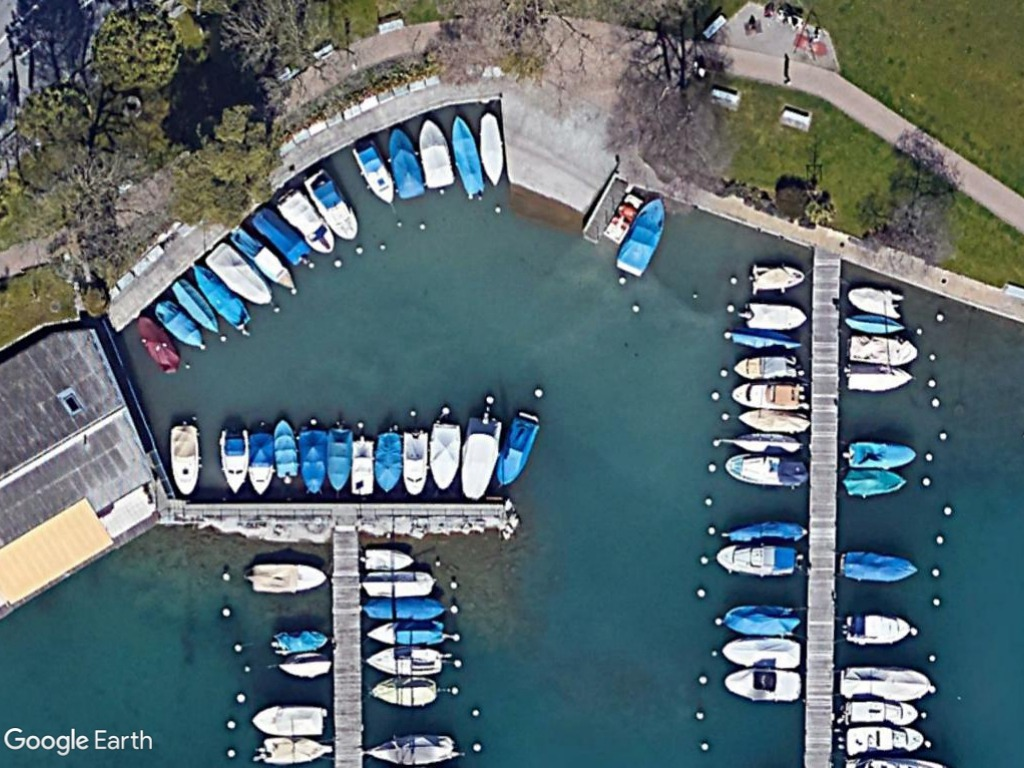boat: (201, 240, 277, 312), (300, 165, 364, 249), (451, 407, 504, 508), (836, 656, 944, 705), (227, 224, 300, 295), (271, 186, 343, 257), (184, 256, 253, 328), (613, 194, 670, 281), (838, 540, 926, 591), (719, 446, 815, 492), (152, 294, 219, 357), (716, 595, 809, 640), (717, 660, 806, 707), (243, 205, 311, 266), (380, 123, 432, 202), (496, 410, 546, 491), (446, 110, 491, 199), (718, 630, 805, 676), (712, 540, 806, 581), (345, 134, 397, 208), (365, 731, 465, 768), (171, 275, 227, 341), (836, 327, 925, 368), (245, 556, 329, 597), (248, 698, 336, 737), (359, 640, 448, 678), (417, 114, 459, 194), (838, 607, 916, 649), (472, 102, 509, 189), (356, 565, 443, 602), (166, 417, 205, 499), (365, 672, 448, 710), (726, 346, 806, 385), (295, 412, 330, 499), (361, 618, 455, 650), (841, 436, 923, 472), (842, 279, 912, 321), (728, 375, 812, 410), (739, 297, 812, 337), (243, 423, 281, 498), (398, 423, 432, 505), (371, 426, 407, 499), (742, 262, 813, 299), (216, 423, 250, 499), (844, 359, 915, 395), (841, 466, 910, 502), (326, 420, 359, 495), (269, 412, 302, 486), (359, 539, 426, 573), (265, 623, 330, 657)
